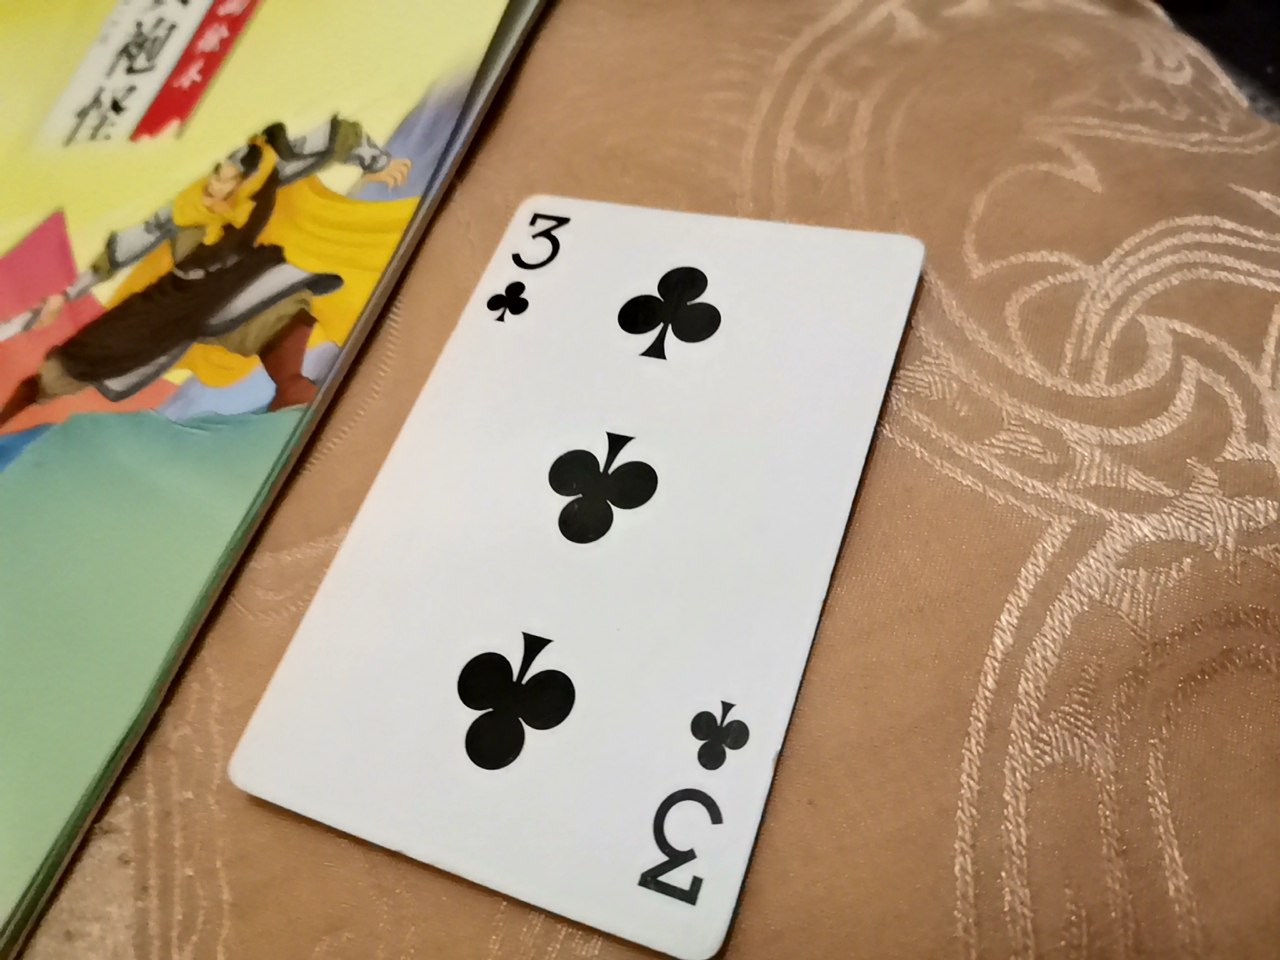mh 3: (260, 206, 928, 960)
